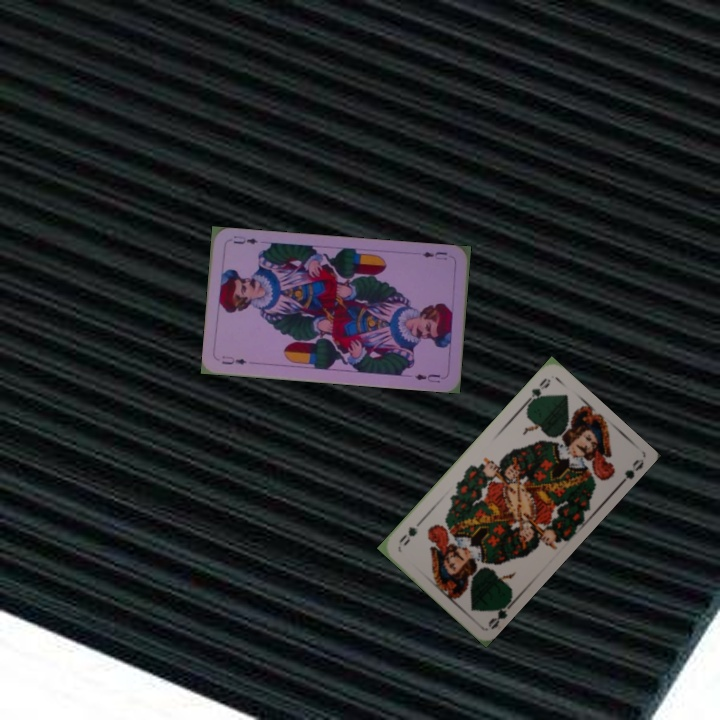EU: (418, 247, 450, 263), (218, 352, 249, 367)
GO: (484, 595, 517, 631), (521, 374, 554, 410)
